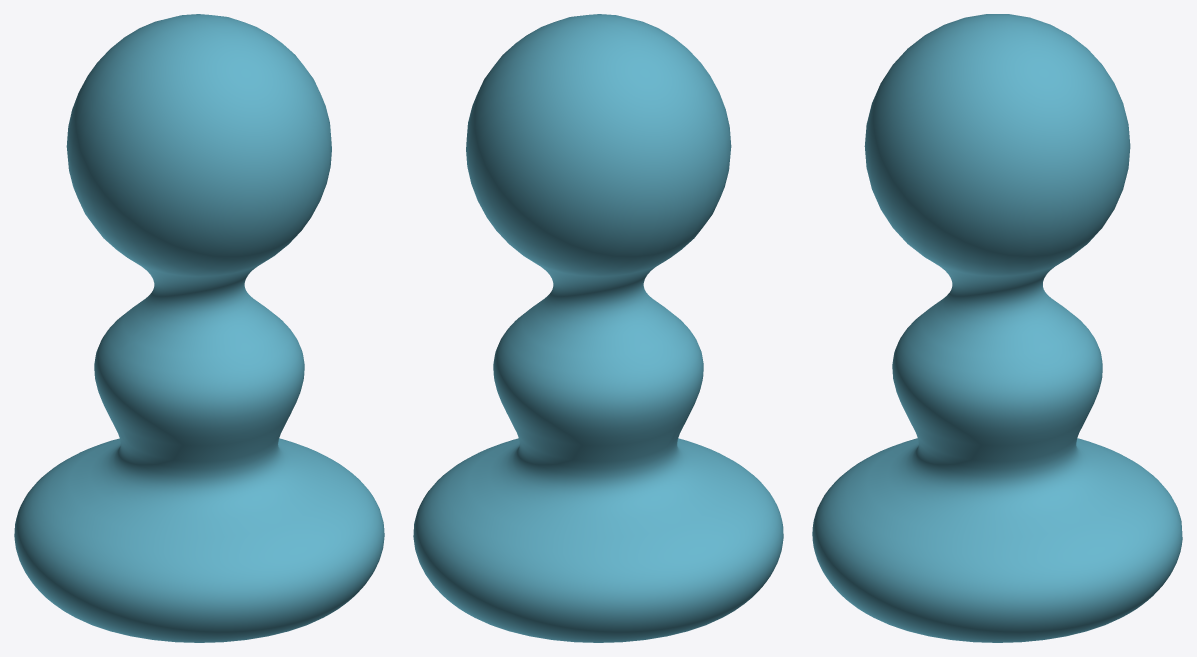
The model's file is Fate Game Piece V2 Moonstone.glb.
The picture shows the model from 3 angles, left to right: view 1: azimuth 30°, elevation 25°; view 2: azimuth 150°, elevation 25°; view 3: azimuth 270°, elevation 25°; orthographic projection.
Parts seen in each view (by area): view 1: Solid1; view 2: Solid1; view 3: Solid1.
Boxes of the visible parts, bbox=[...] form: Solid1: bbox=[14, 14, 384, 642]; Solid1: bbox=[413, 14, 783, 642]; Solid1: bbox=[812, 14, 1182, 642].
Size of the model in its own units: 0.0334 by 0.0547 by 0.0334.
